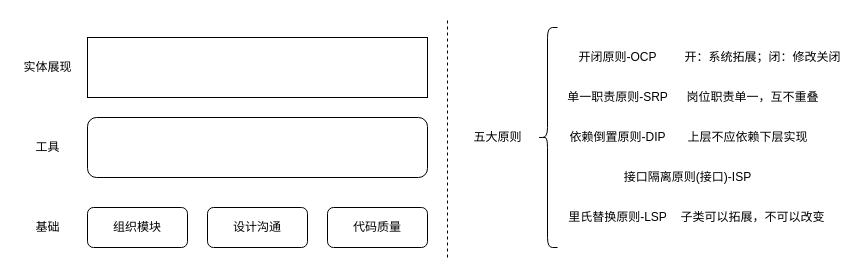
This 864x276 diagram has some shape labels left out. The centre of each missing label's shape, as x and y in pixels:
"系统本身" belongs at [257,67].
"设计模式" belongs at [257,147].
